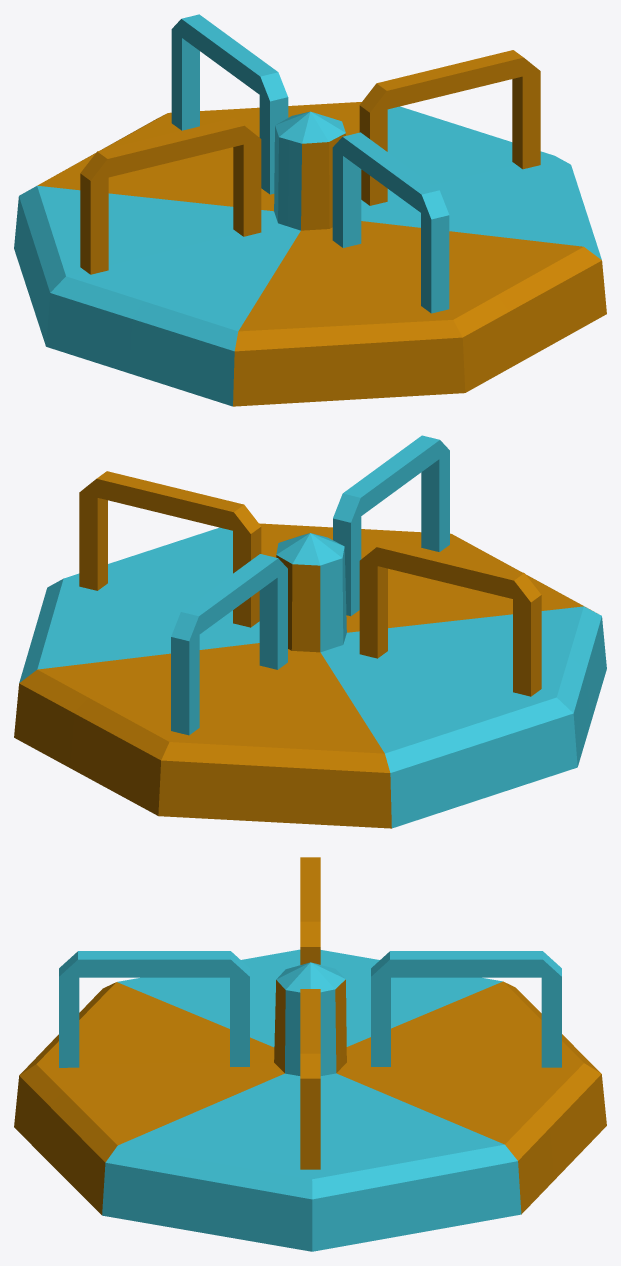
File: Child Swing 1 Fractured.fbx
3 views of the same model, one above another, from view 1: azimuth 30°, elevation 25°; view 2: azimuth 150°, elevation 25°; view 3: azimuth 270°, elevation 25° (orthographic). The views are drawn at different scales.
Visible parts, largest first — view 1: Child_Swing_01_Breaking.002, Child_Swing_01_Breaking.001, Child_Swing_01_Breaking; view 2: Child_Swing_01_Breaking.001, Child_Swing_01_Breaking, Child_Swing_01_Breaking.002; view 3: Child_Swing_01_Breaking, Child_Swing_01_Breaking.001, Child_Swing_01_Breaking.002.
Boxes of the visible parts, bbox=[...] form: Child_Swing_01_Breaking.002: bbox=[129, 112, 512, 406]; Child_Swing_01_Breaking.001: bbox=[14, 14, 309, 373]; Child_Swing_01_Breaking: bbox=[299, 50, 606, 366]; Child_Swing_01_Breaking.001: bbox=[70, 533, 590, 828]; Child_Swing_01_Breaking: bbox=[14, 471, 379, 767]; Child_Swing_01_Breaking.002: bbox=[311, 435, 606, 722]; Child_Swing_01_Breaking: bbox=[43, 962, 554, 1251]; Child_Swing_01_Breaking.001: bbox=[241, 857, 606, 1179]; Child_Swing_01_Breaking.002: bbox=[14, 951, 309, 1156].
Size of the model in its own units: 132 by 55.72 by 132.
